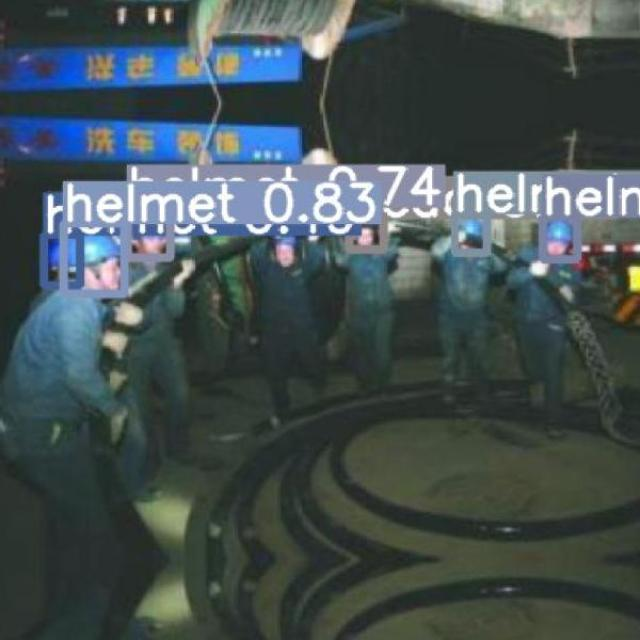blue helmet: (58, 222, 127, 294), (127, 203, 176, 256), (539, 209, 590, 258), (264, 219, 309, 254), (452, 216, 488, 257)
